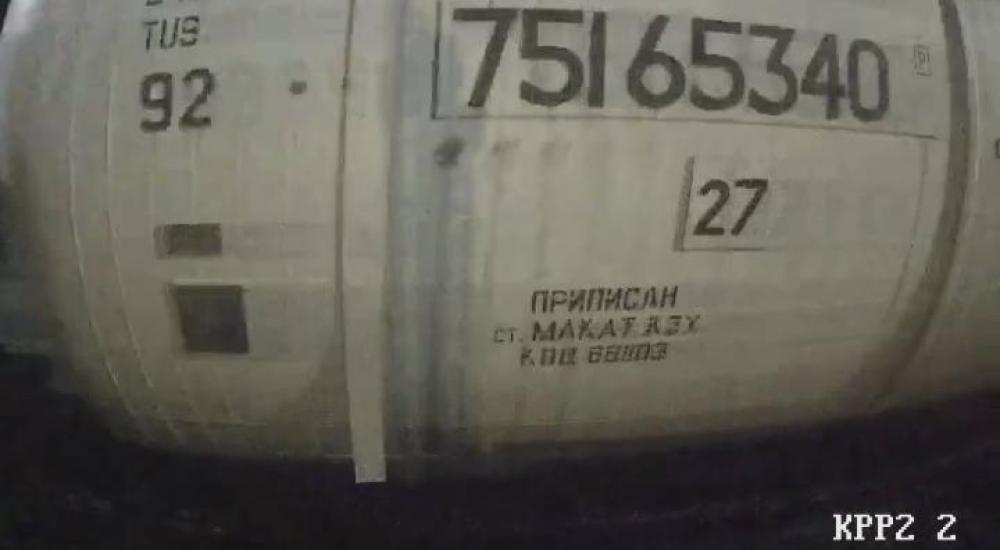Wagon-number: (448, 0, 898, 130)
